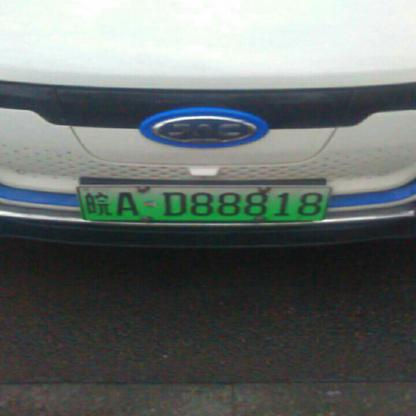lp: (79, 187, 328, 220)
